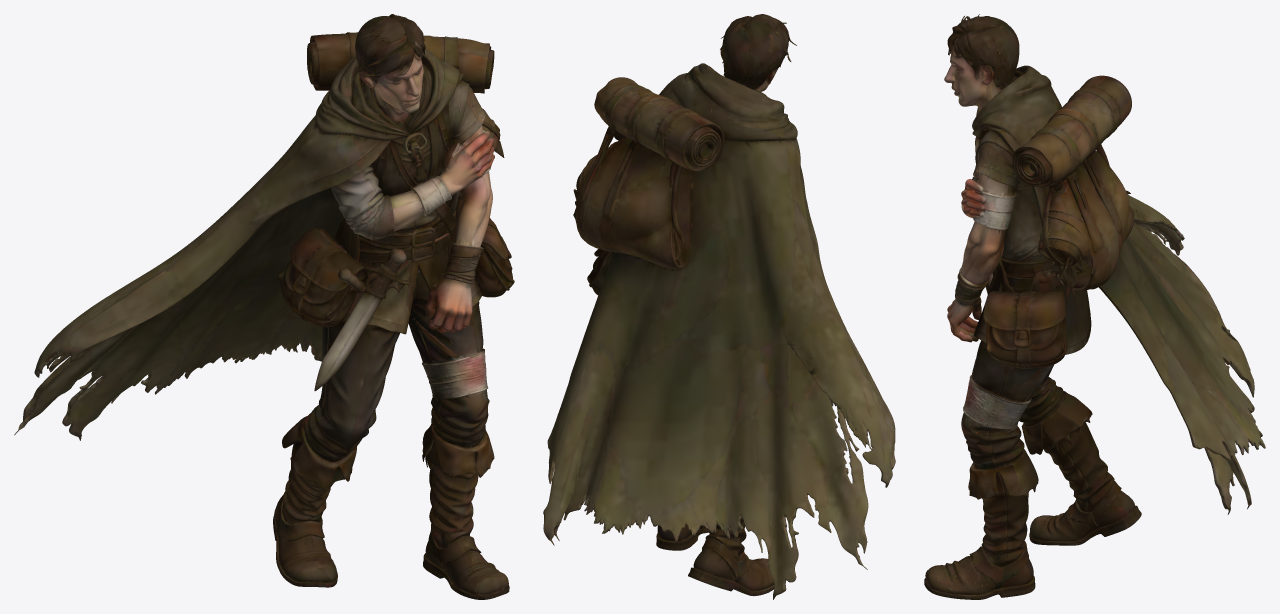
File: messenger.glb
3 renders of one model, left to right at view 1: azimuth 30°, elevation 25°; view 2: azimuth 150°, elevation 25°; view 3: azimuth 270°, elevation 25°, orthographic. The views are drawn at different scales.
Visible parts, largest first — view 1: material; view 2: material; view 3: material.
Part boxes in pixels (box(x1,y1,x2,y2)): material: box(14, 14, 514, 599); material: box(543, 14, 895, 599); material: box(924, 14, 1265, 599).
Bounding box in the file's own units: 0.7132 × 0.9766 × 0.5622.
Materials: 1 (1 with a texture image).
